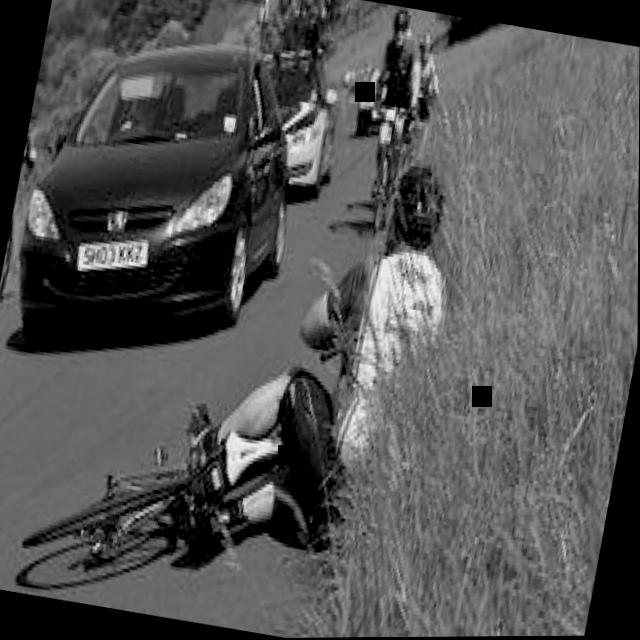Fall-Detected: (169, 119, 492, 574)
